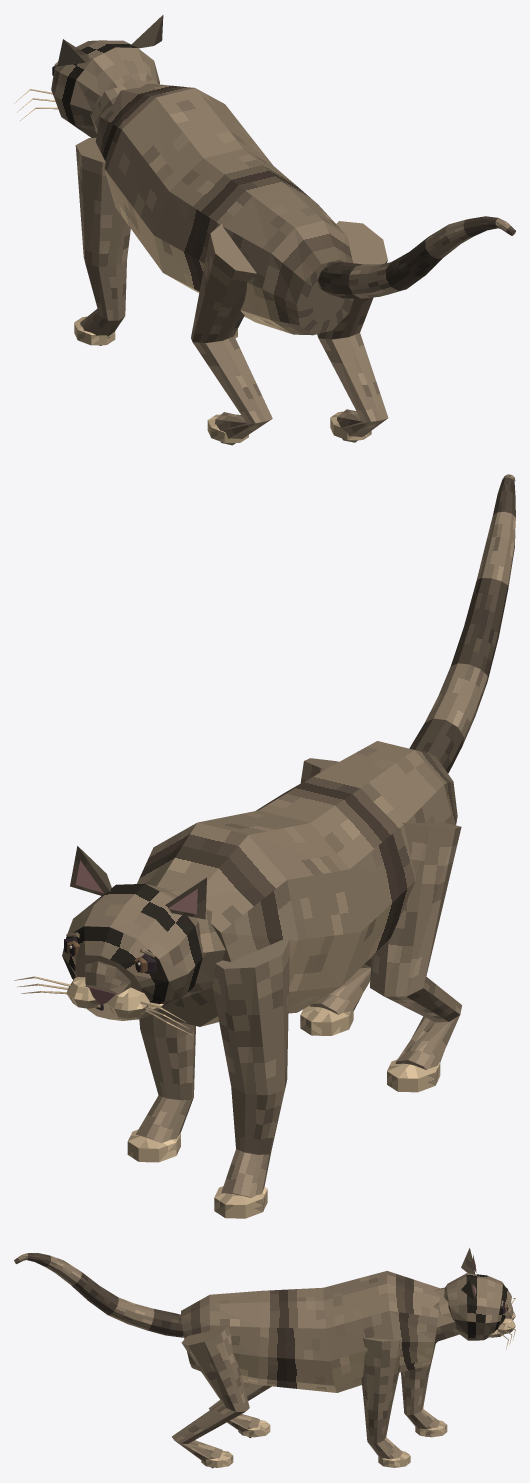
The model's file is mon_cat_tabby.glb.
3 views of the same model, one above another, from view 1: azimuth 30°, elevation 25°; view 2: azimuth 150°, elevation 25°; view 3: azimuth 270°, elevation 25° (orthographic). The views are drawn at different scales.
Visible parts, largest first — view 1: closed_body; view 2: closed_body; view 3: closed_body.
Boxes of the visible parts, box(x1,y1,x2,y2) form: closed_body: box(14, 15, 515, 445); closed_body: box(14, 474, 515, 1218); closed_body: box(14, 1248, 515, 1468).
Bounding box in the file's own units: 0.1761 × 0.3909 × 0.8242.
Materials: 1 (1 with a texture image).
